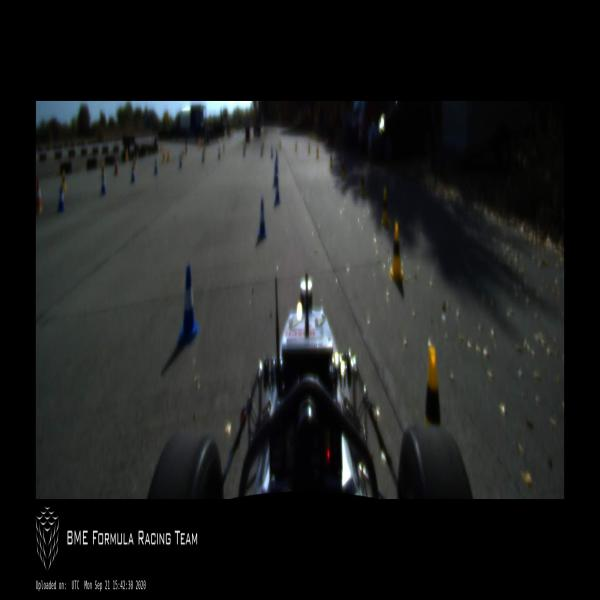blue_cone: (176, 266, 200, 348), (257, 198, 267, 238), (58, 186, 66, 212), (274, 177, 280, 204), (101, 173, 106, 196), (274, 162, 278, 188), (154, 159, 158, 174), (130, 168, 134, 182), (270, 146, 274, 158), (179, 155, 182, 169), (260, 145, 263, 156), (276, 149, 278, 162), (202, 151, 204, 163), (218, 149, 220, 159), (242, 146, 244, 155)
large_orange_cone: (36, 180, 42, 214), (114, 153, 118, 174)
unknown_cone: (125, 150, 128, 164), (162, 152, 165, 162), (167, 149, 169, 162)
yellow_cone: (424, 347, 440, 426), (390, 222, 403, 282), (381, 189, 388, 226), (360, 170, 366, 196), (341, 158, 346, 181), (62, 172, 67, 189), (101, 162, 104, 177), (330, 151, 332, 169), (133, 157, 136, 169), (316, 147, 319, 159), (222, 144, 225, 152), (308, 144, 310, 154), (295, 142, 297, 152), (279, 142, 281, 150)
